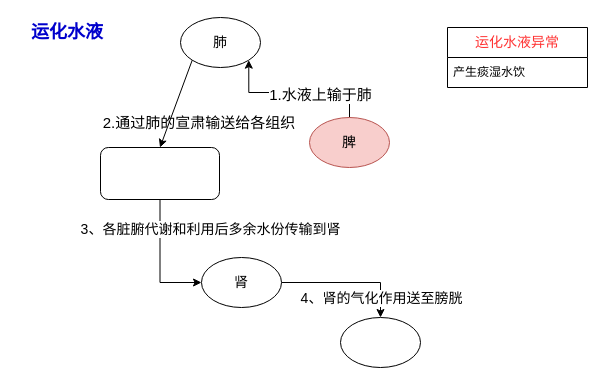
Some shapes in this 605 by 385 pixel diagram are drawn without their labels. The shapes that lost their labels are listed below. From the top down, each one's centre as x and y in pixels, then its label:
the point at 160,173: 各组织
the point at 380,342: 膀胱
